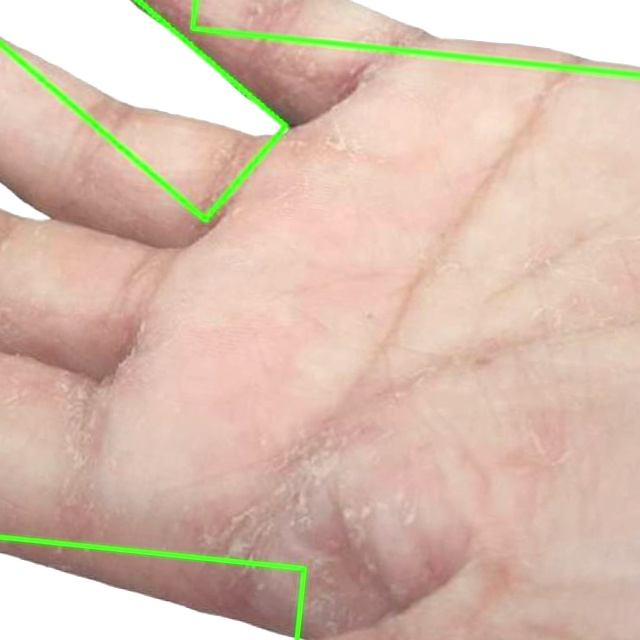Scabies: (0, 0, 284, 220)
